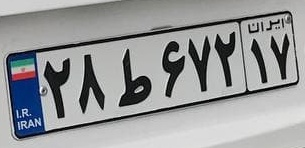character: (112, 46, 155, 108), (42, 55, 77, 121), (76, 48, 109, 115), (158, 35, 186, 103), (187, 31, 214, 95), (214, 26, 238, 90), (269, 30, 293, 82), (249, 34, 269, 86)
